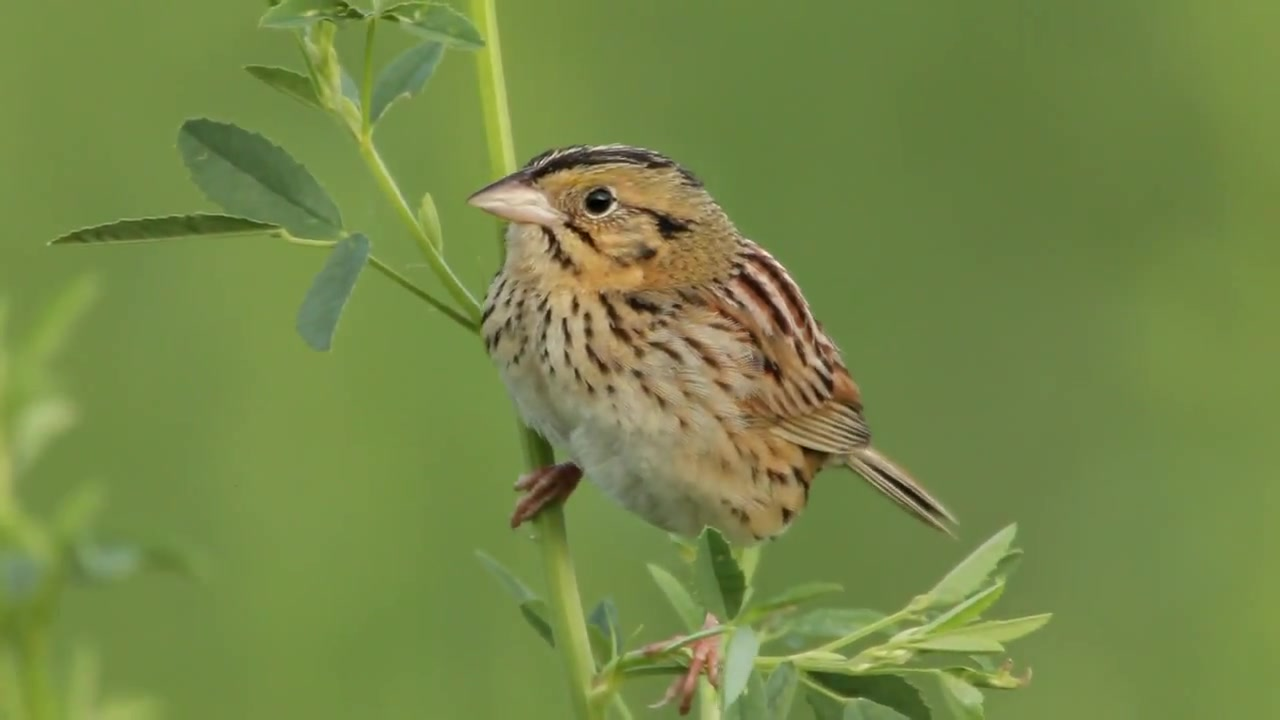bird: (465, 144, 959, 717)
